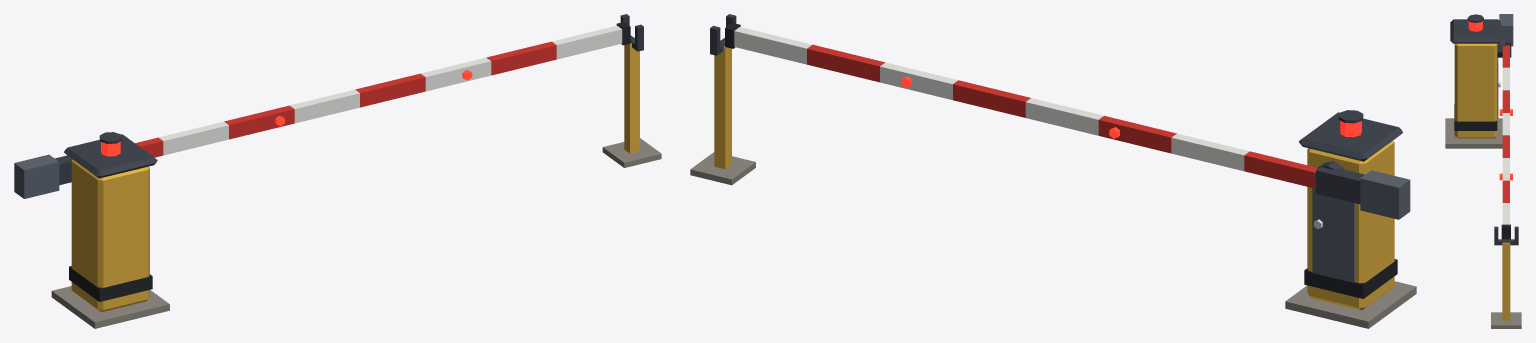
Rendered from traffic_barrier_arm.glb.
3 views of the same model, side by side, from view 1: azimuth 30°, elevation 25°; view 2: azimuth 150°, elevation 25°; view 3: azimuth 270°, elevation 25° (orthographic). The views are drawn at different scales.
Visible parts, largest first — view 1: Housing, Arm; view 2: Housing, Arm; view 3: Housing, Arm.
Boxes of the visible parts, x1=… form: Housing: x1=51, y1=14, x2=661, y2=328; Arm: x1=14, y1=22, x2=630, y2=198; Housing: x1=690, y1=14, x2=1416, y2=328; Arm: x1=725, y1=23, x2=1410, y2=219; Housing: x1=1445, y1=14, x2=1521, y2=328; Arm: x1=1499, y1=14, x2=1513, y2=239.
Size of the model in its own units: 5.06 by 1.28 by 0.75.
